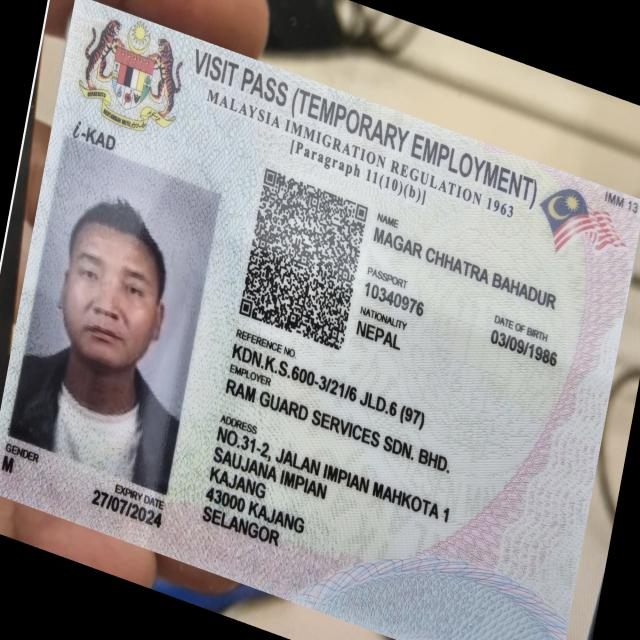ikad-temp: (1, 0, 638, 638)
